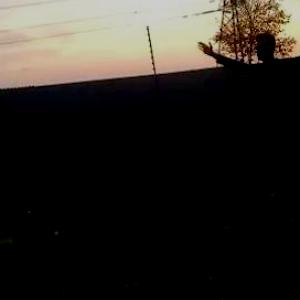takeoff: (195, 23, 299, 206)
